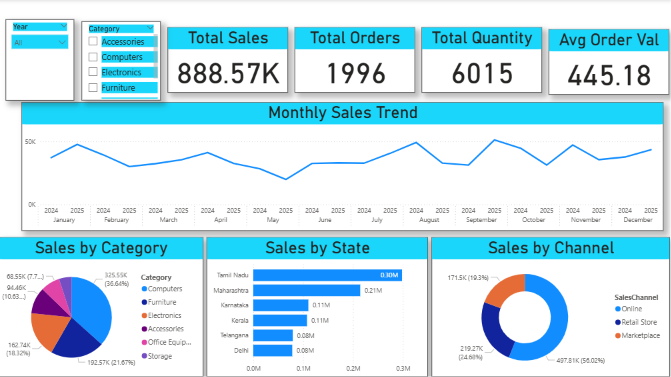

The page's visual inventory and layout, read from the dashboard file:
{"tool":"powerbi","page":{"name":"Sales Overview","canvas":[1280,720],"ordinal":1},"visuals":[{"type":"card","title":"Total Sales","fields":{"Values":["Sum(Sales.SalesAmountt)"]},"box":[319.1,53.8,227.1,123.5],"z":0},{"type":"card","title":"Total Orders","fields":{"Values":["CountNonNull(Sales.OrderID)"]},"box":[559.3,53.8,227.1,123.5],"z":1000},{"type":"card","title":"Total Quantity","fields":{"Values":["Sum(Sales.Quantity)"]},"box":[799.5,53.8,227.1,123.5],"z":2000},{"type":"card","title":"Avg Order Val","fields":{"Values":["Avg(Sales.SalesAmountt)"]},"box":[1039.7,55.8,227.1,123.5],"z":3000},{"type":"lineChart","title":"Monthly Sales Trend","fields":{"Category":["DimDate.Month","DimDate.Year"],"Y":["Sum(Sales.SalesAmountt)"]},"box":[43.8,195.2,1213,243],"z":4000},{"type":"pieChart","title":"Sales by Category","fields":{"Y":["Sum(Sales.SalesAmountt)"],"Category":["Products.Category"]},"box":[0,450.1,386.4,264.9],"z":5000},{"type":"clusteredBarChart","title":"Sales by State","fields":{"Y":["Sum(Sales.SalesAmountt)"],"Category":["DimState.State"]},"box":[392.4,450.1,418.3,264.9],"z":6000},{"type":"donutChart","title":"Sales by Channel","fields":{"Y":["Sum(Sales.SalesAmountt)"],"Category":["Sales.SalesChannel"]},"box":[818.6,450.1,450.1,264.9],"z":7000},{"type":"slicer","fields":{"Values":["DimDate.Year"]},"box":[13.9,37.8,129.5,153.4],"z":8000},{"type":"slicer","fields":{"Values":["Products.Category"]},"box":[156.6,41.8,149.4,149.4],"z":9000}]}

Visuals, with their boxes in screenshot pixels (x1, y1, x2, y2), scaled from the page's 1280x720 canvas onto the 671x377 screenshot:
"Total Sales" card: x1=167, y1=28, x2=286, y2=93
"Total Orders" card: x1=293, y1=28, x2=412, y2=93
"Total Quantity" card: x1=419, y1=28, x2=538, y2=93
"Avg Order Val" card: x1=545, y1=29, x2=664, y2=94
"Monthly Sales Trend" lineChart: x1=23, y1=102, x2=659, y2=229
"Sales by Category" pieChart: x1=0, y1=236, x2=203, y2=374
"Sales by State" clusteredBarChart: x1=206, y1=236, x2=425, y2=374
"Sales by Channel" donutChart: x1=429, y1=236, x2=665, y2=374
slicer - DimDate.Year: x1=7, y1=20, x2=75, y2=100
slicer - Products.Category: x1=82, y1=22, x2=160, y2=100
